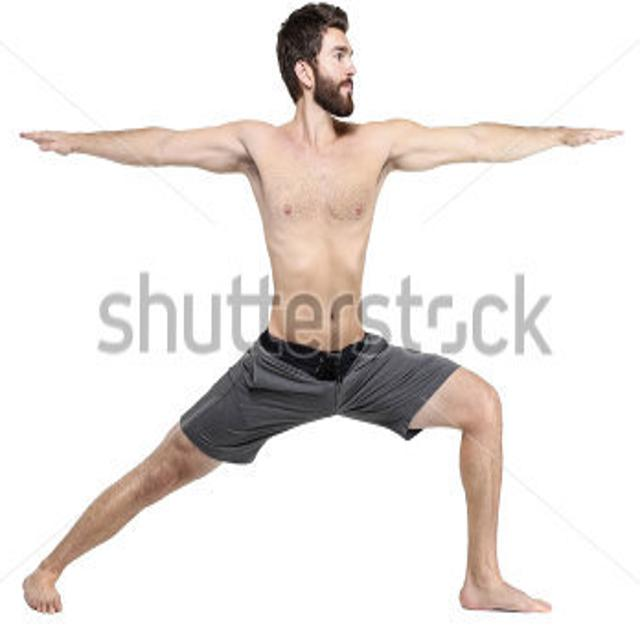Warrior_II: (8, 3, 628, 616)
